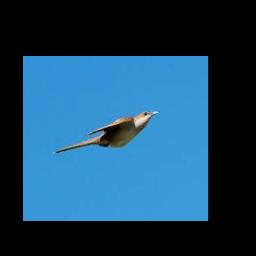Cuckoo: (54, 110, 159, 154)
